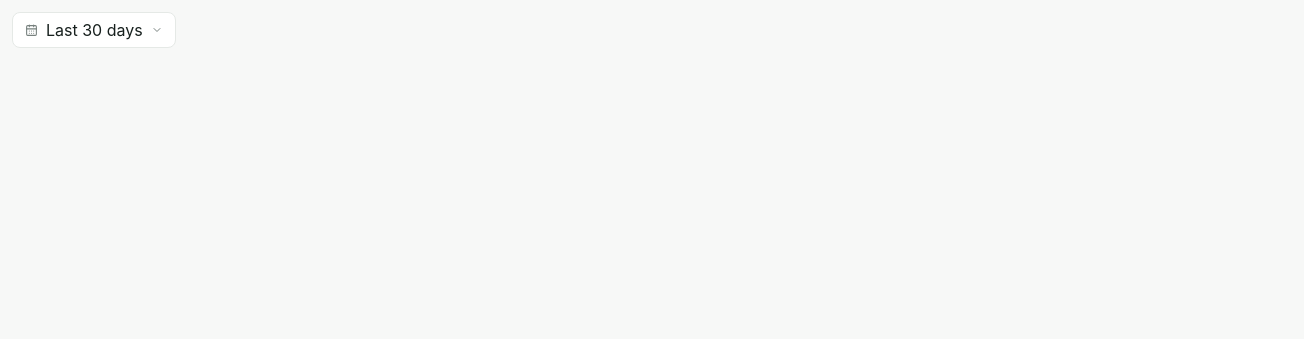
Test: analytics date filters › caps custom analytics at 366 calendar days before requesting trends
Click the button "Last 30 days".
click(94, 30)  # box top-left (12, 12), bottom-right (176, 48)
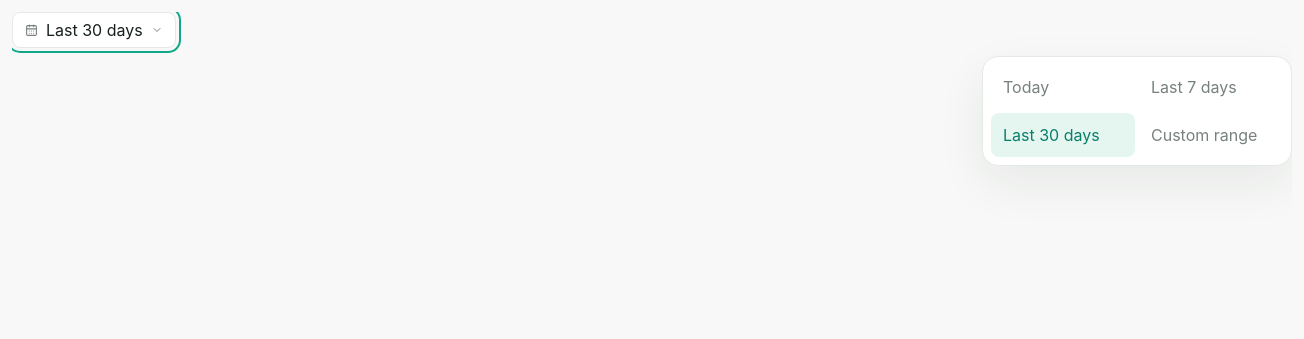
Click the button "Custom range".
click(1211, 135)  # box top-left (1139, 113), bottom-right (1283, 157)
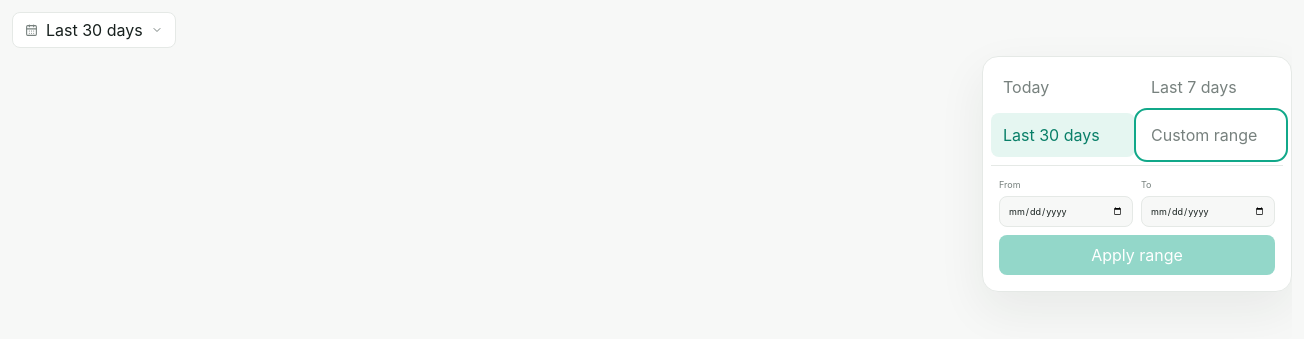
Type "2025-01-01" into the date field labelled "From".
click(1066, 211); type("2025-01-01")  # box top-left (999, 196), bottom-right (1133, 227)
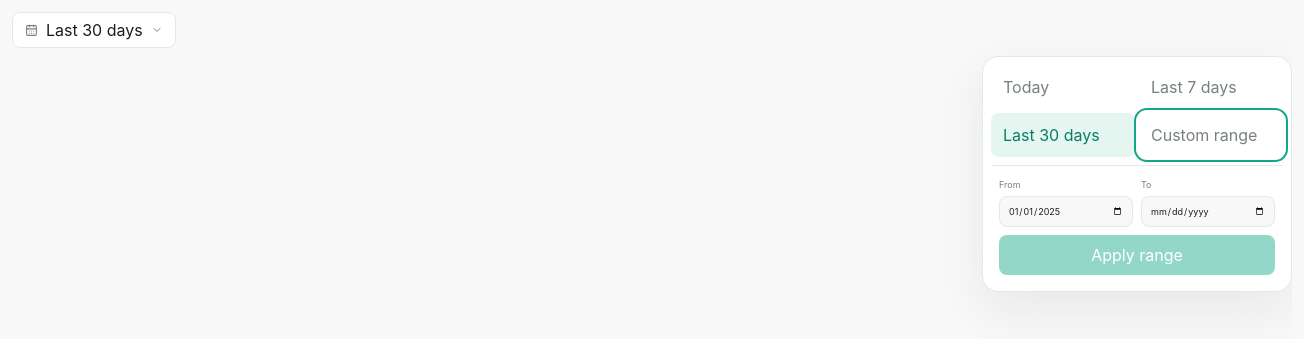
Type "2027-01-01" into the date field labelled "To".
click(1208, 211); type("2027-01-01")  # box top-left (1141, 196), bottom-right (1275, 227)
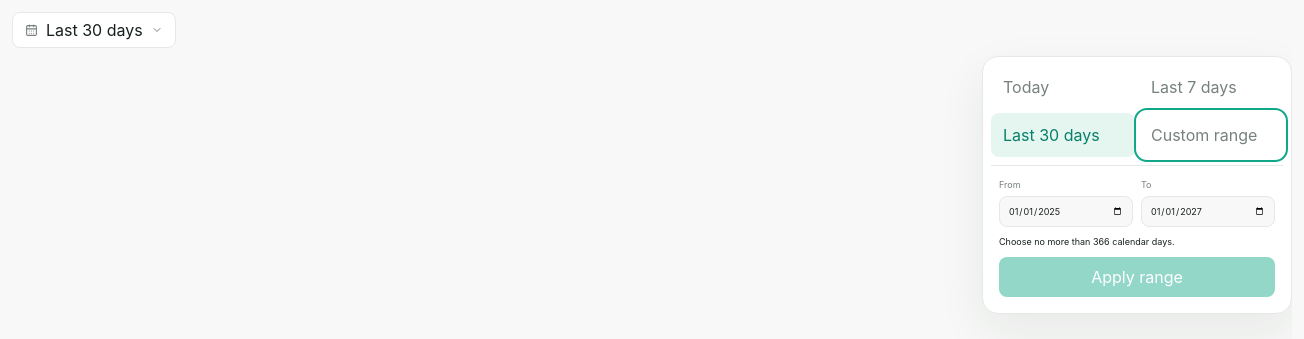
Check: the button "Apply range" is disabled, box top-left (999, 256), bottom-right (1275, 296)
Check: the text "Choose no more than 366 calendar days." is shown, box top-left (999, 236), bottom-right (1174, 247)
